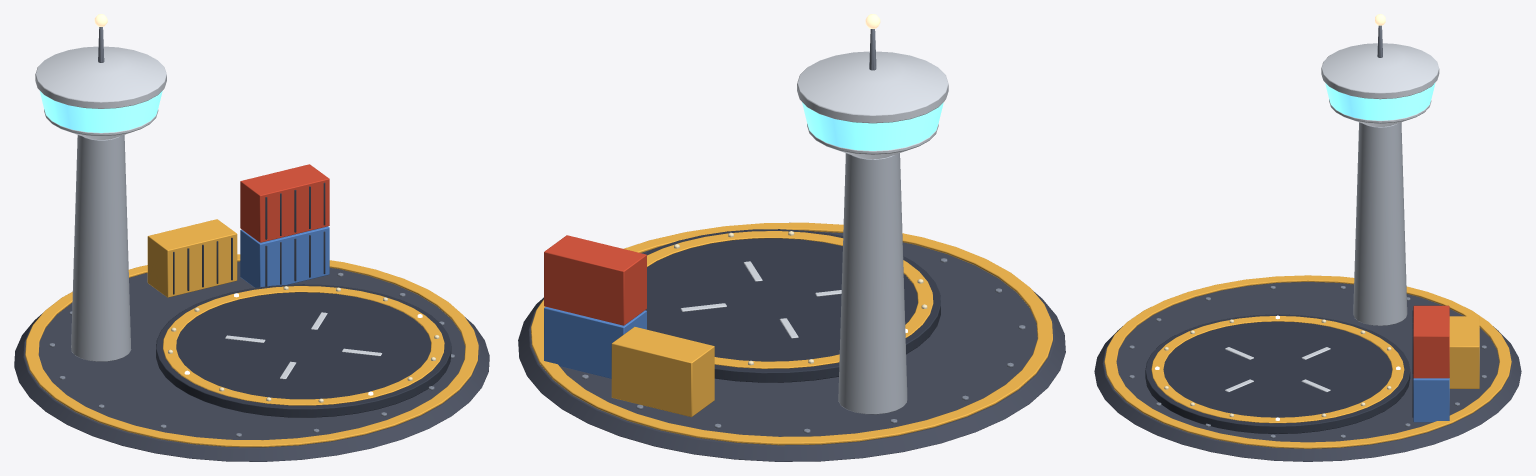
Rendered from port.fbx.
3 views of the same model, side by side, from view 1: azimuth 30°, elevation 25°; view 2: azimuth 150°, elevation 25°; view 3: azimuth 270°, elevation 25° (orthographic). The views are drawn at different scales.
Parts seen in each view (by area): view 1: port_Koerper; view 2: port_Koerper; view 3: port_Koerper.
Boxes of the visible parts, left/top/right/bottom form: port_Koerper: left=14, top=14, right=489, bottom=461; port_Koerper: left=518, top=14, right=1065, bottom=461; port_Koerper: left=1094, top=14, right=1521, bottom=461.
Bounding box in the file's own units: 7.09 × 5.66 × 7.09.
